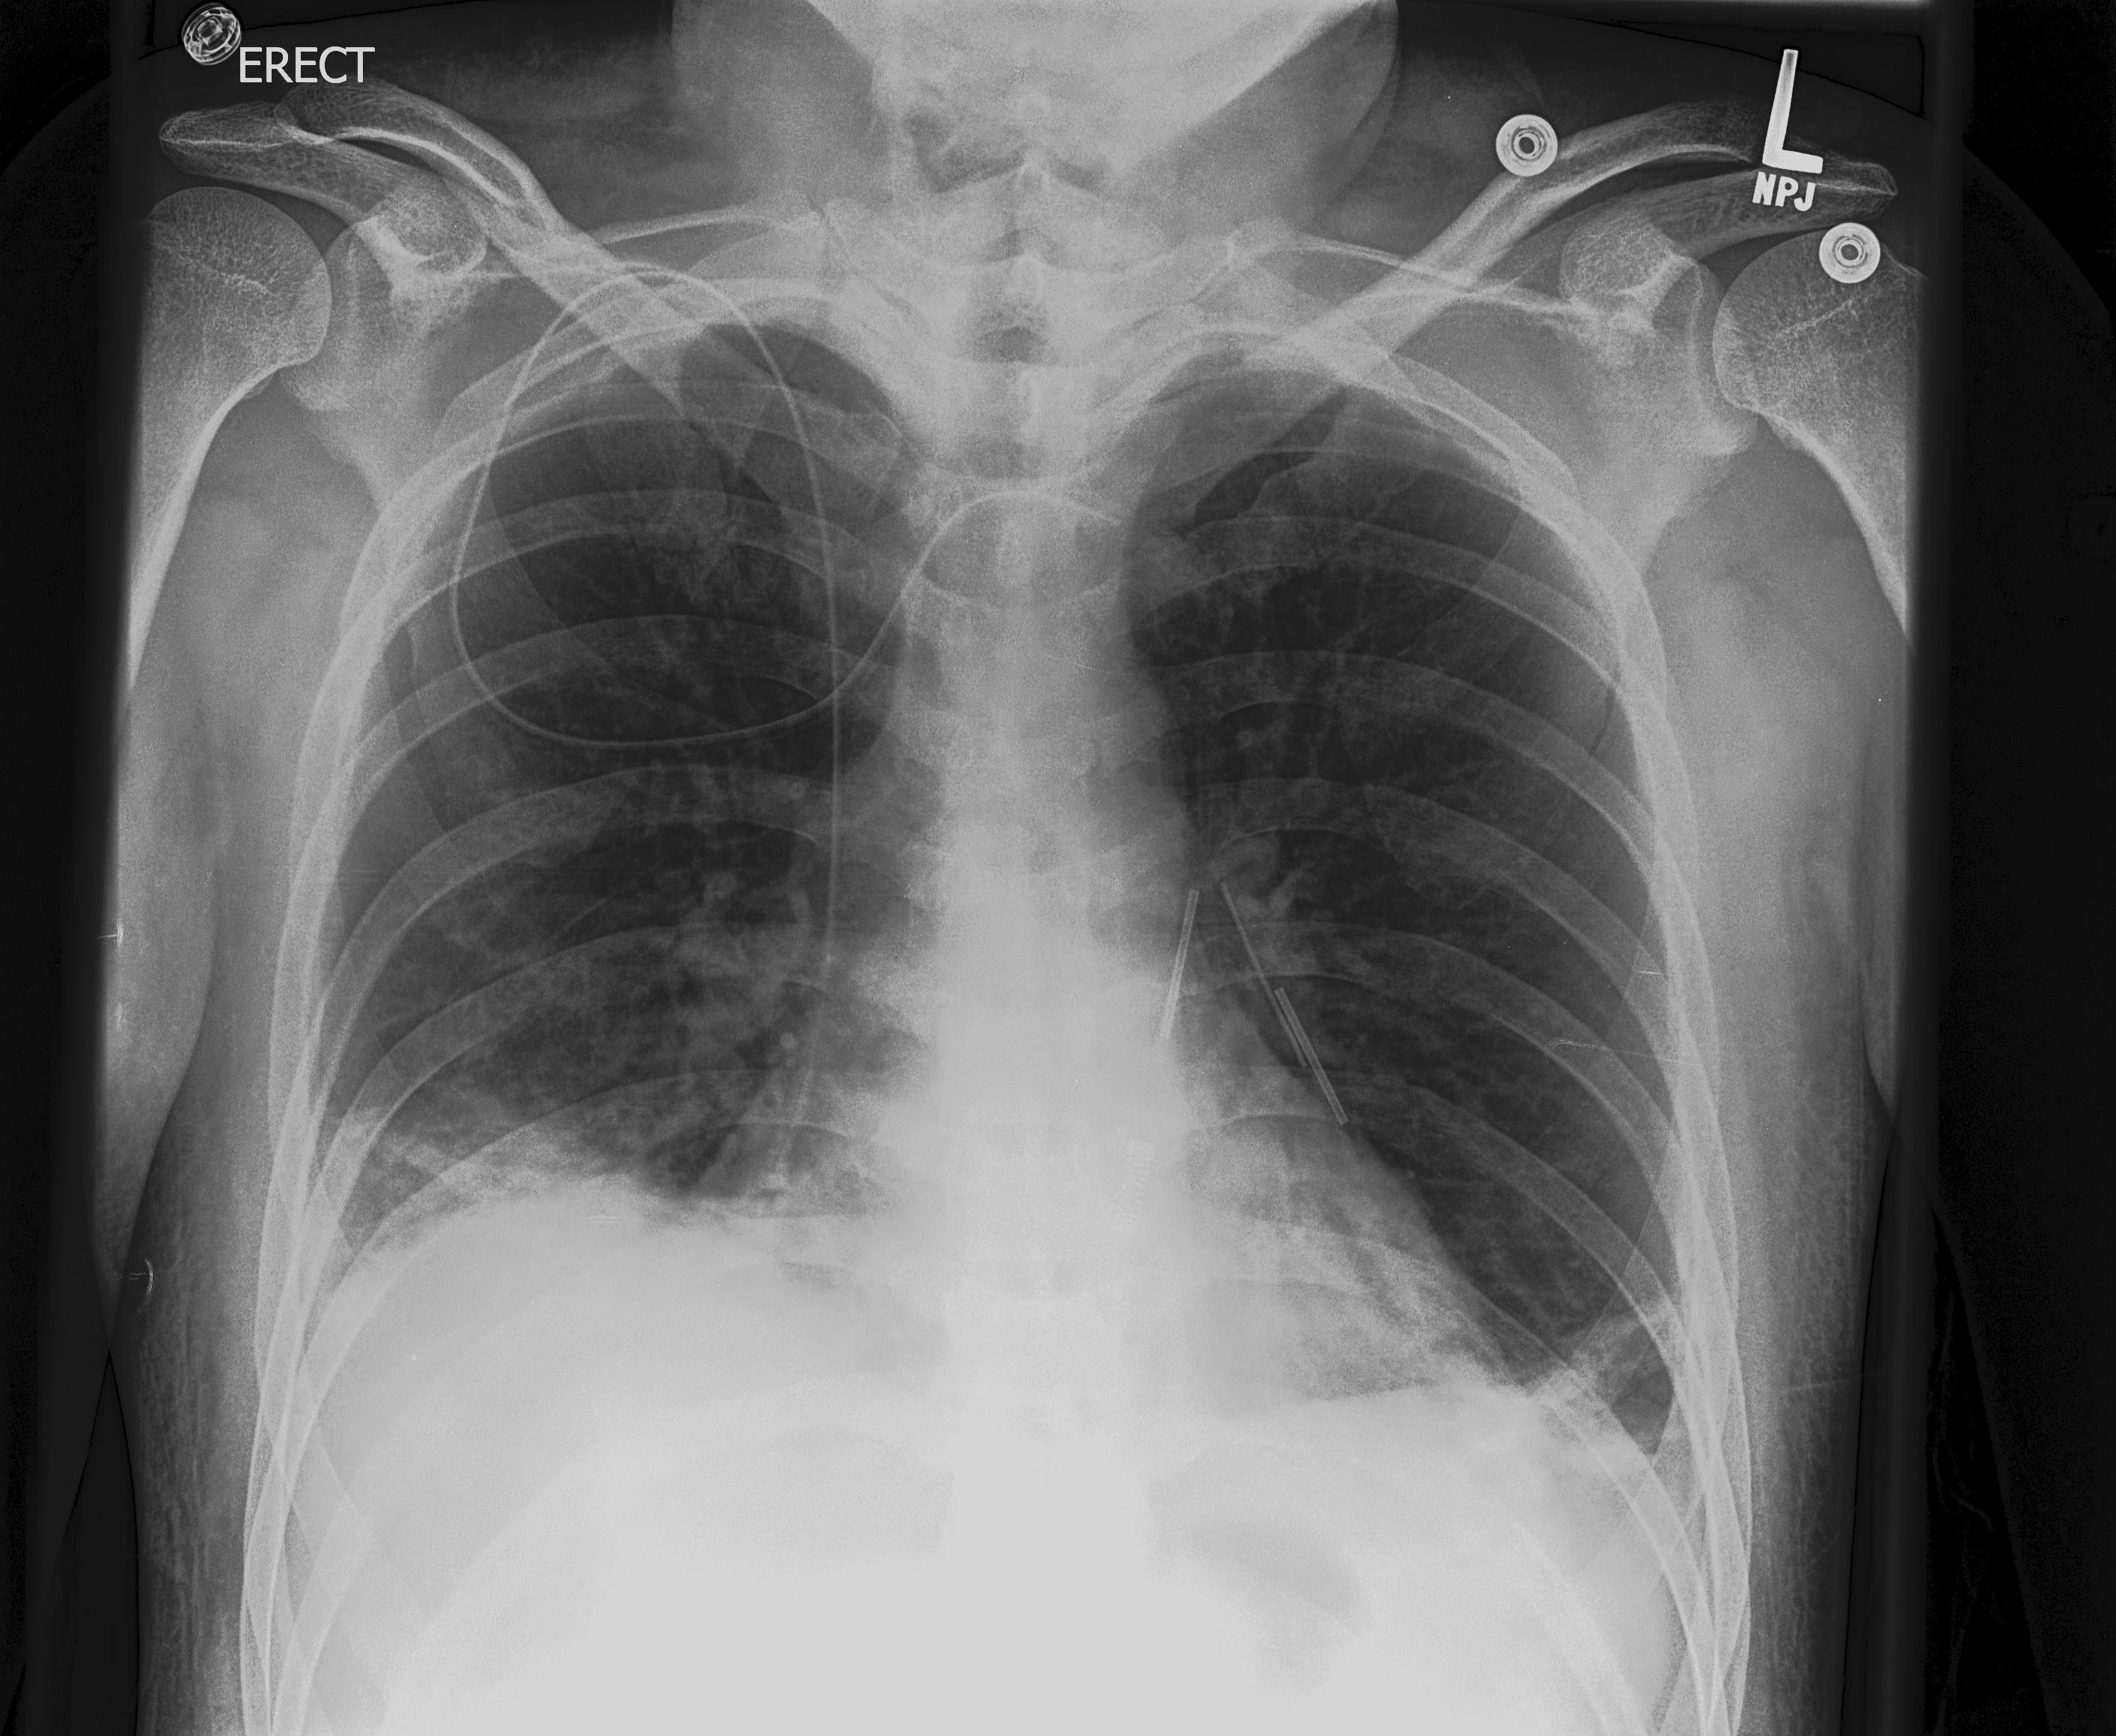Pleural Effusion: (246, 1093, 847, 1546)
